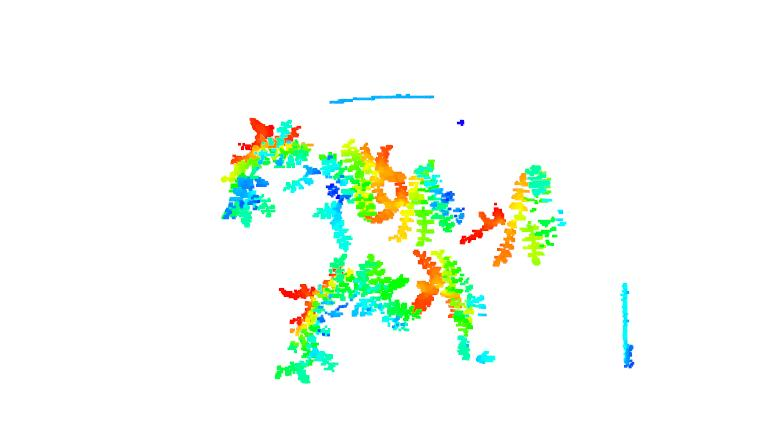chickpea: (459, 157, 567, 272), (267, 254, 361, 382), (217, 117, 321, 230), (301, 142, 407, 252), (409, 250, 497, 365), (380, 162, 468, 247), (355, 254, 426, 335)
